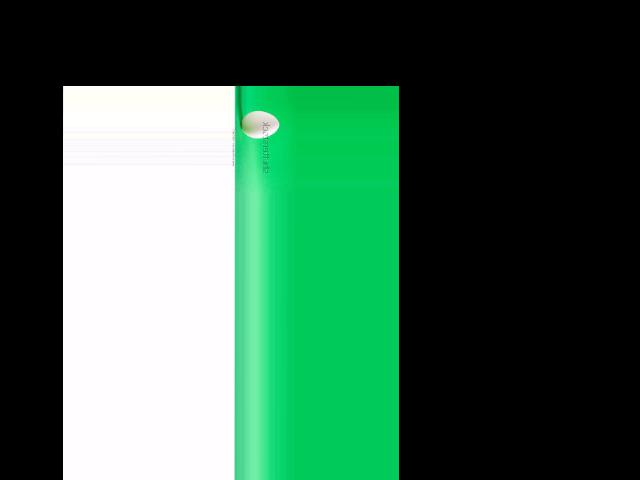egg: (240, 110, 278, 138)
